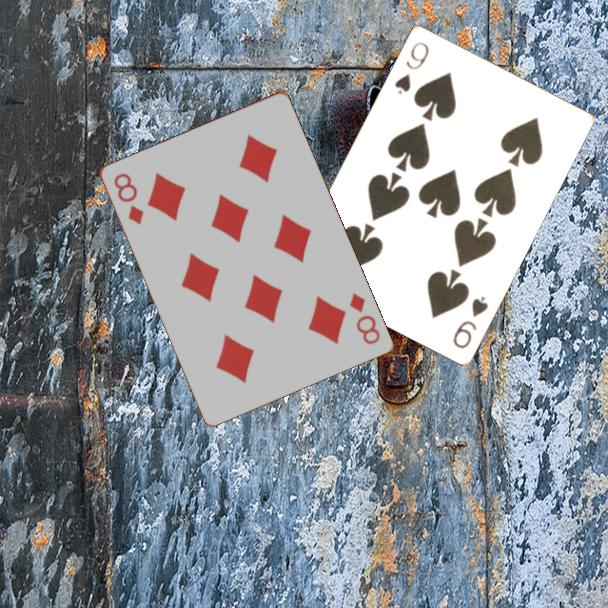d08: (346, 289, 383, 347), (110, 169, 146, 228)
s09: (449, 292, 491, 351), (391, 38, 432, 97)
